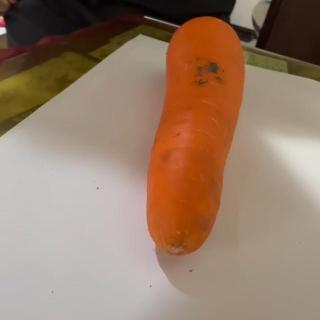carrot: (144, 14, 248, 258)
